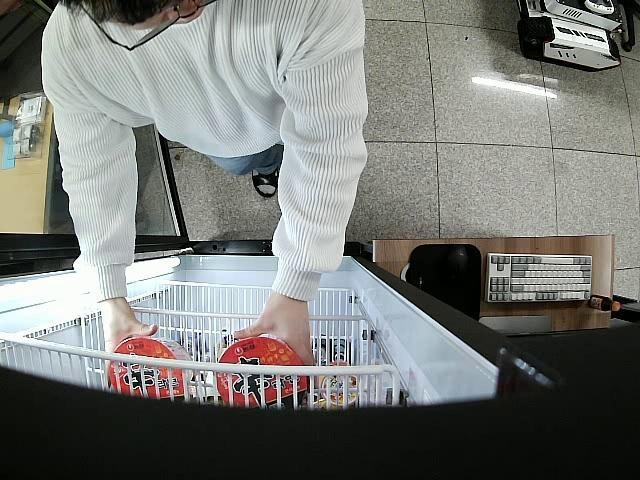01_ShinRamen_L: (216, 337, 308, 414), (108, 336, 195, 408)
